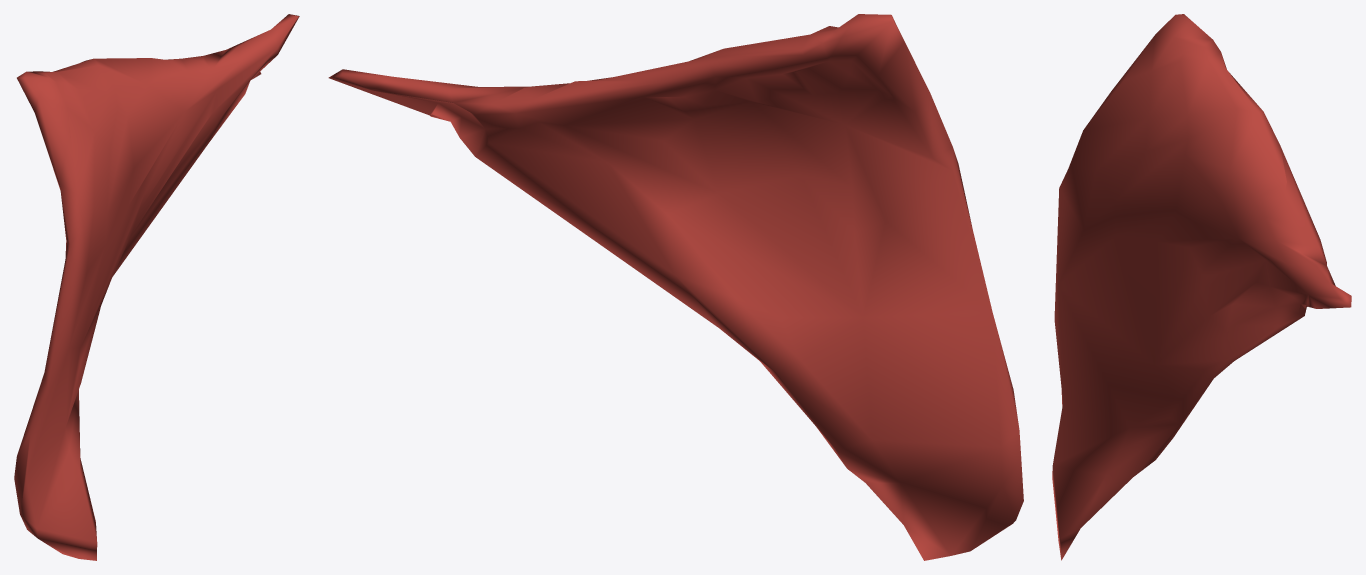
File: musculos-levator-labii-superioris-l.glb
The picture shows the model from 3 angles, left to right: view 1: azimuth 30°, elevation 25°; view 2: azimuth 150°, elevation 25°; view 3: azimuth 270°, elevation 25°; orthographic projection. The views are drawn at different scales.
Visible parts, largest first — view 1: Levator labii superioris.l; view 2: Levator labii superioris.l; view 3: Levator labii superioris.l.
Part boxes in pixels (box(x1,y1,x2,y2)): Levator labii superioris.l: box(14, 14, 299, 560); Levator labii superioris.l: box(328, 14, 1023, 560); Levator labii superioris.l: box(1052, 14, 1351, 560).
Bounding box in the file's own units: 0.027 × 0.0289 × 0.0148.
